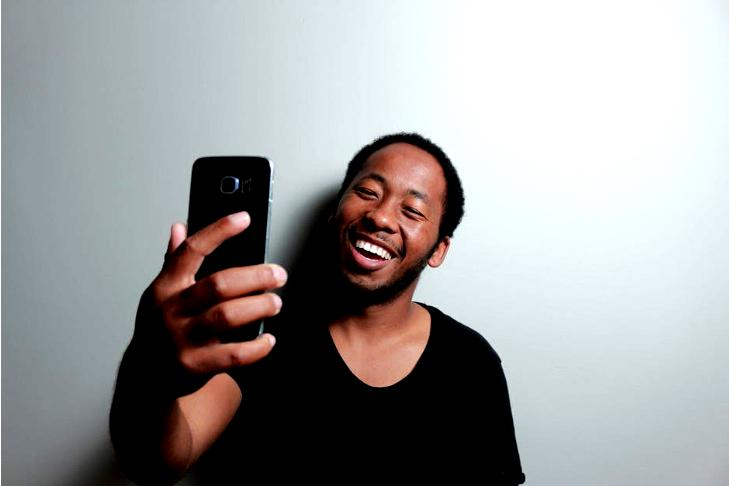face: (333, 144, 440, 292)
